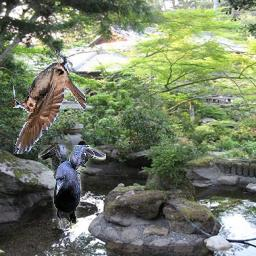Crow: (38, 145, 106, 229)
Sparrow: (14, 50, 87, 155)
